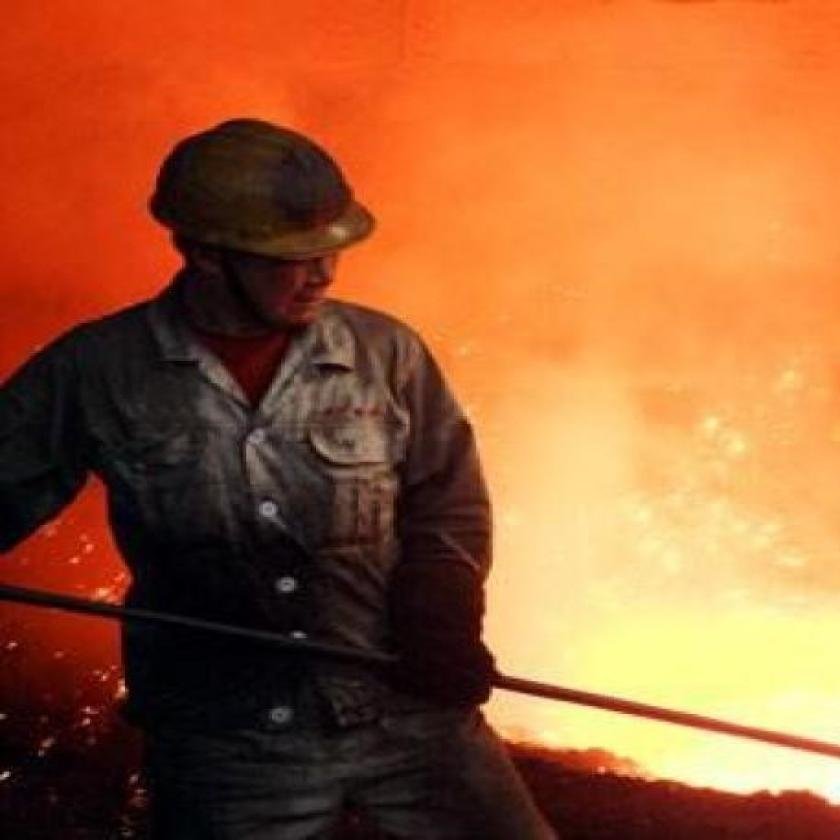Con_casco: (135, 106, 396, 348)
